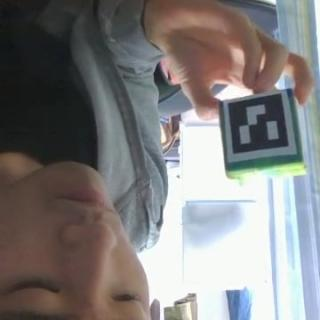armor: (223, 91, 296, 162)
robot: (220, 88, 308, 182)
